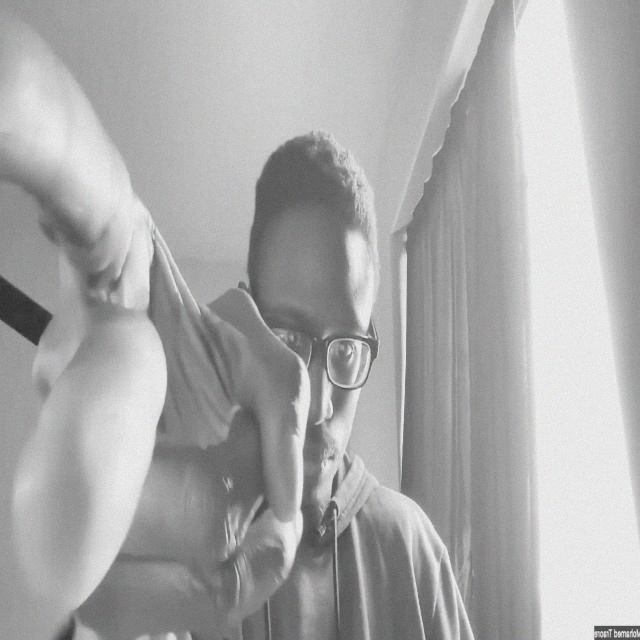Scissors: (0, 14, 314, 640)
